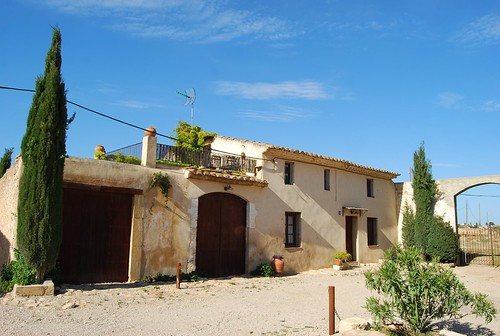building: (1, 104, 416, 289)
sky: (7, 1, 500, 132)
